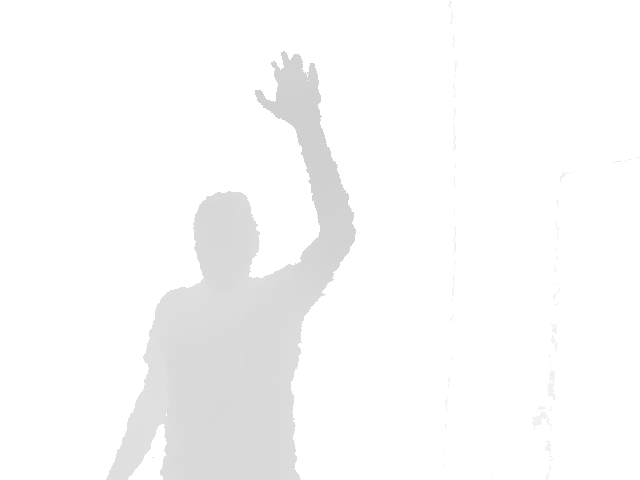hand: (254, 50, 324, 126)
head: (192, 189, 261, 290)
person: (103, 50, 359, 480)
